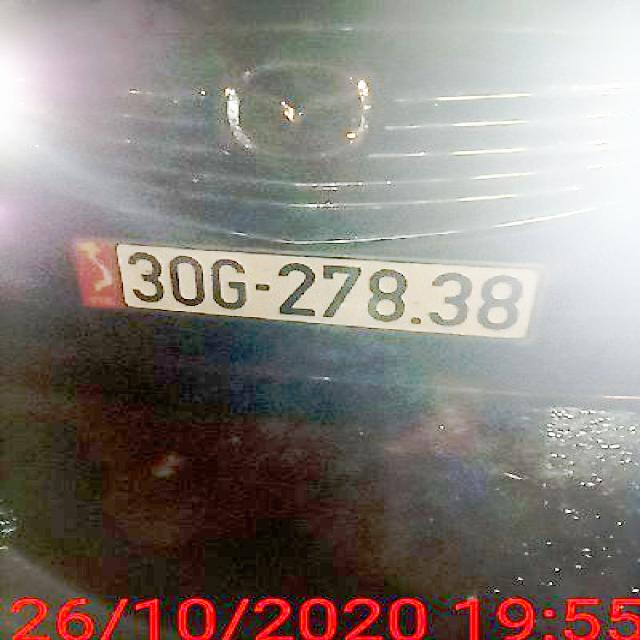license_plate: (77, 240, 544, 338)
